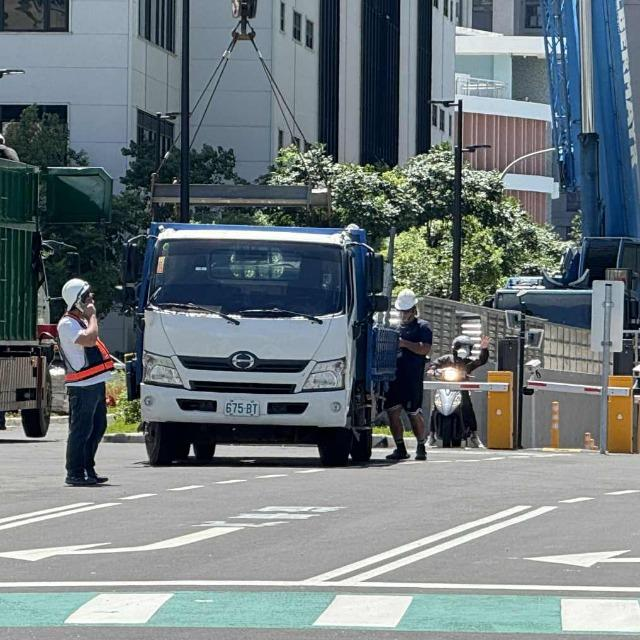Helmet: (59, 273, 104, 314)
Vest: (52, 315, 119, 388)
